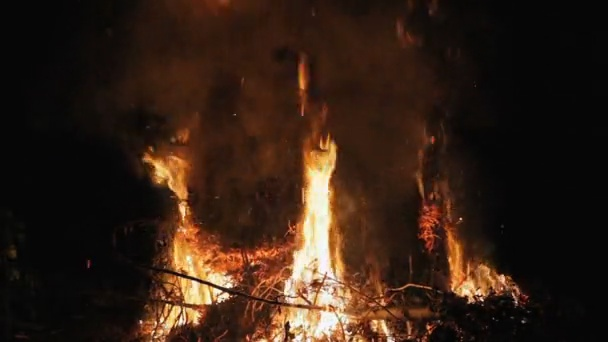fire: (138, 147, 237, 342), (271, 137, 360, 342), (445, 263, 519, 299), (370, 317, 393, 342), (297, 59, 306, 92)
